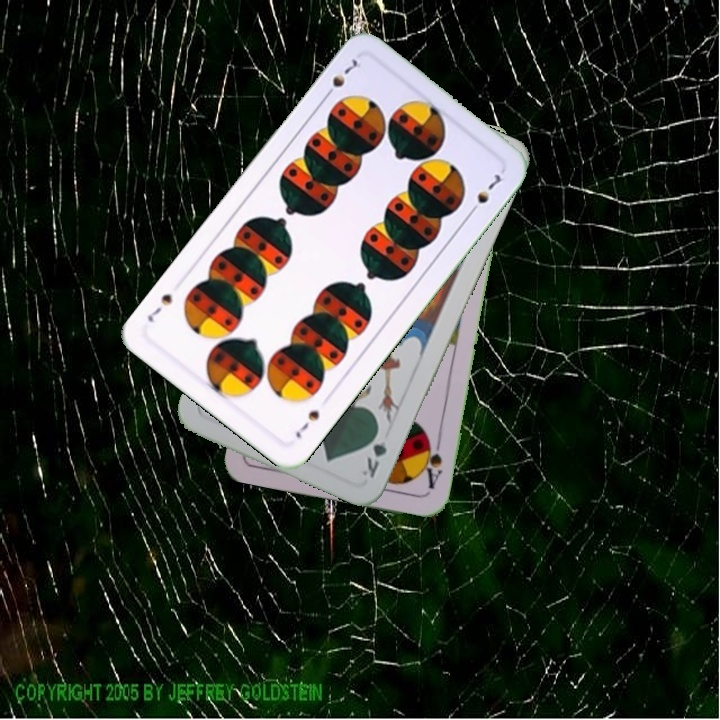GK: (357, 423, 390, 481)
S7: (319, 52, 365, 102), (291, 406, 322, 441)
SA: (418, 435, 445, 492)
